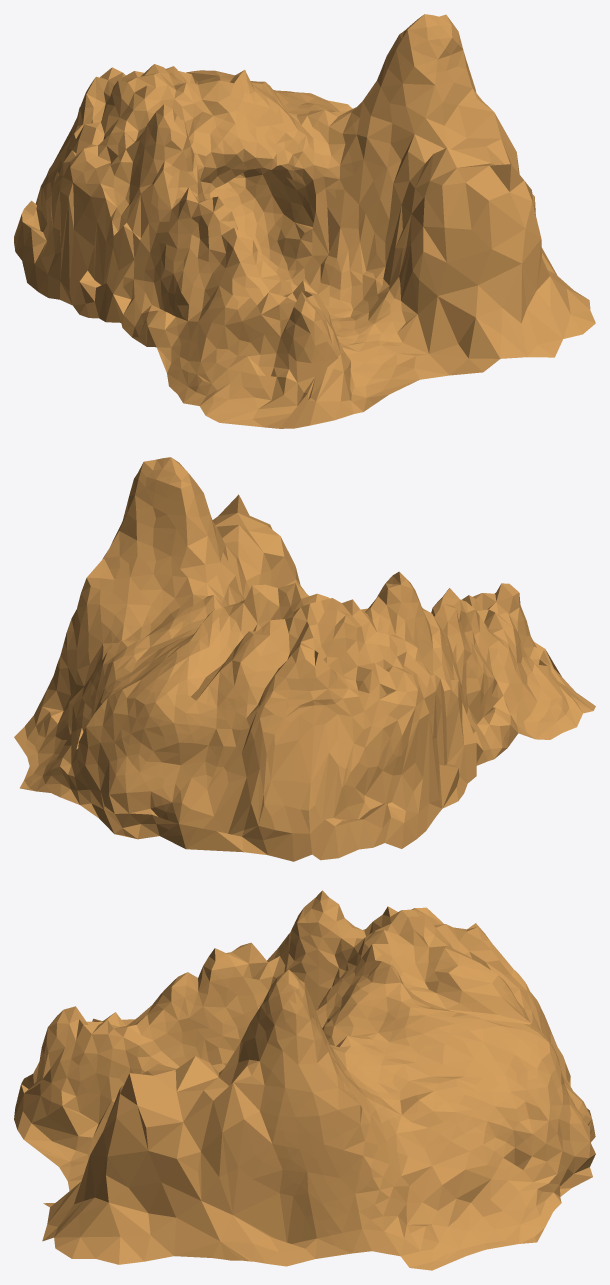
File: PiratesCave.fbx
3 views of the same model, one above another, from view 1: azimuth 30°, elevation 25°; view 2: azimuth 150°, elevation 25°; view 3: azimuth 270°, elevation 25° (orthographic). The views are drawn at different scales.
Visible parts, largest first — view 1: Mounting_2; view 2: Mounting_2; view 3: Mounting_2.
Part boxes in pixels (x1,y1,x2,y2): Mounting_2: (14,14,595,428); Mounting_2: (14,457,595,861); Mounting_2: (14,890,595,1270).
Size of the model in its own units: 1890 by 1160 by 2230.
